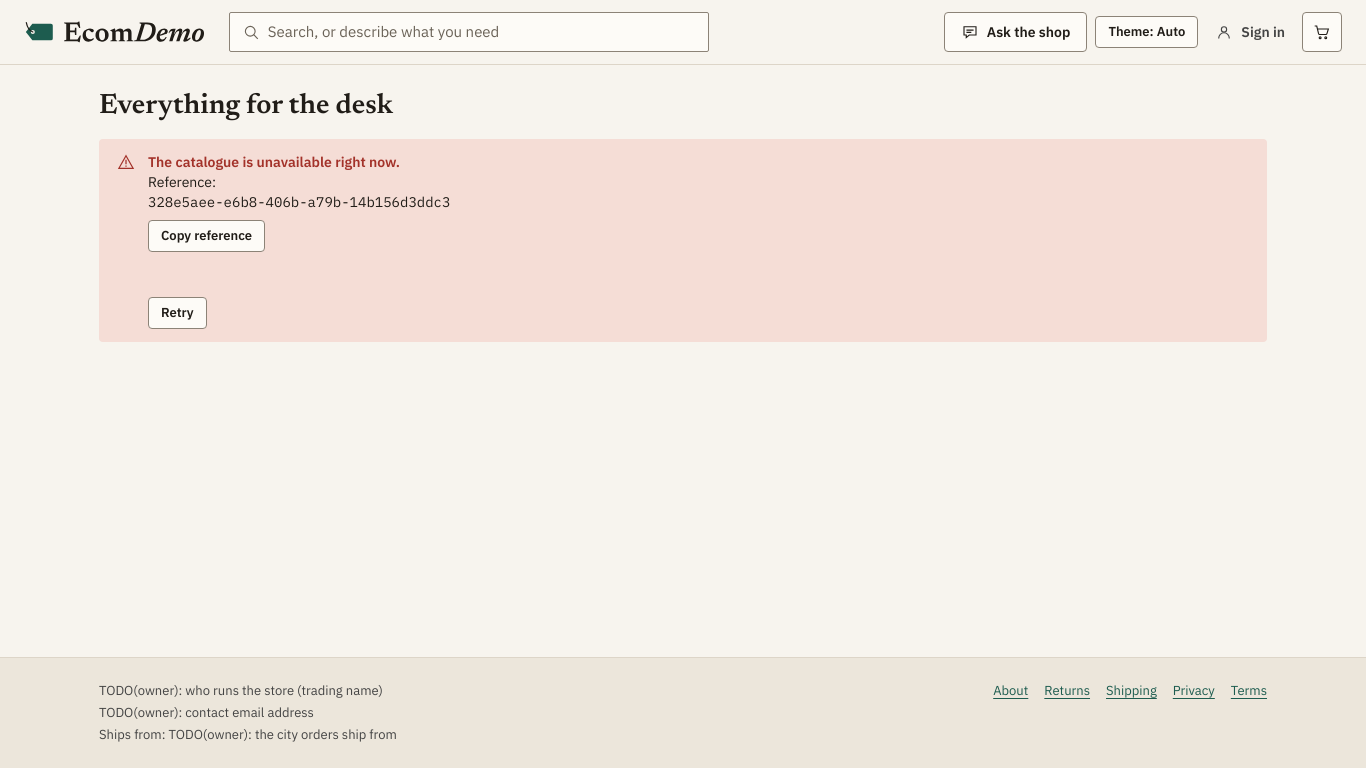
Test: errors and retry › loads the products when Retry is pressed after a failure
Click the button "Retry": click(177, 313) [148, 297, 207, 329]
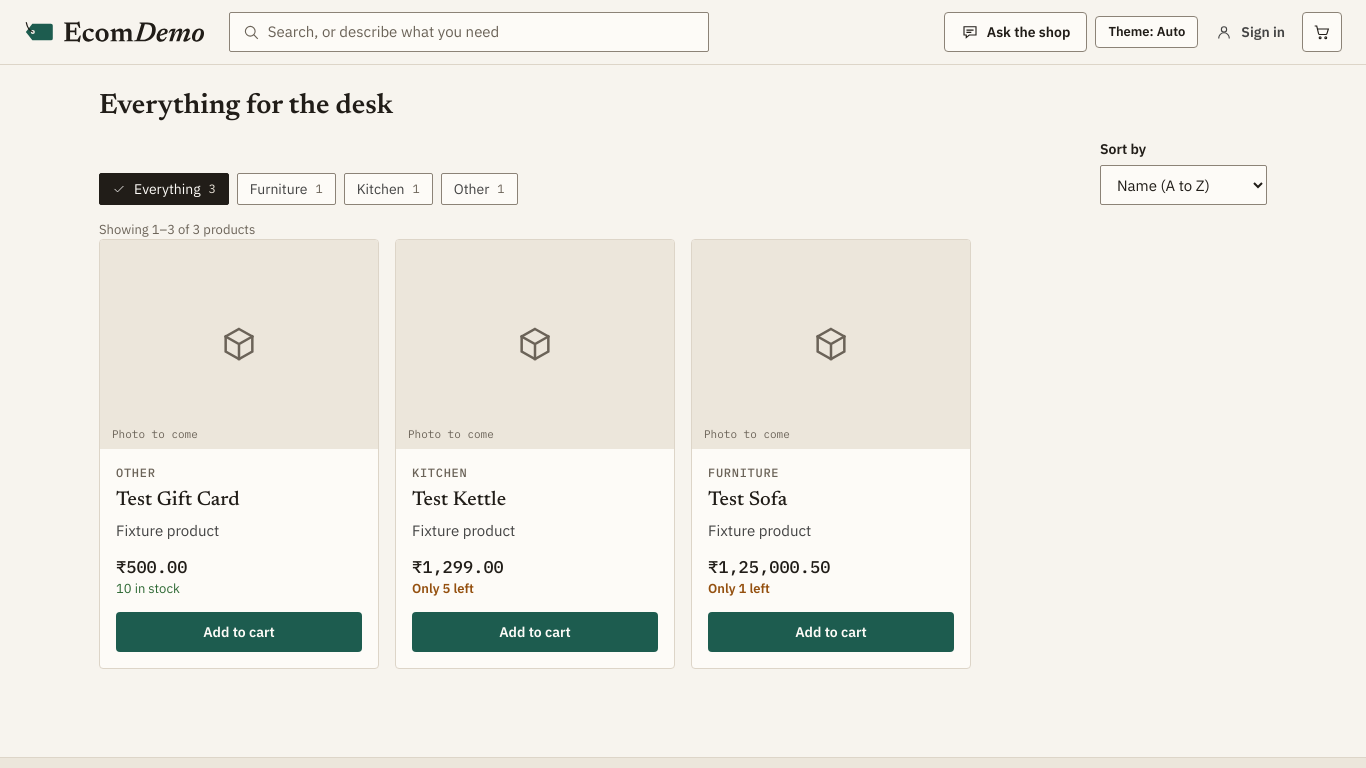
expect the heading "Test Kettle" is shown: met, box [412, 490, 506, 510]
expect the message is gone: met
